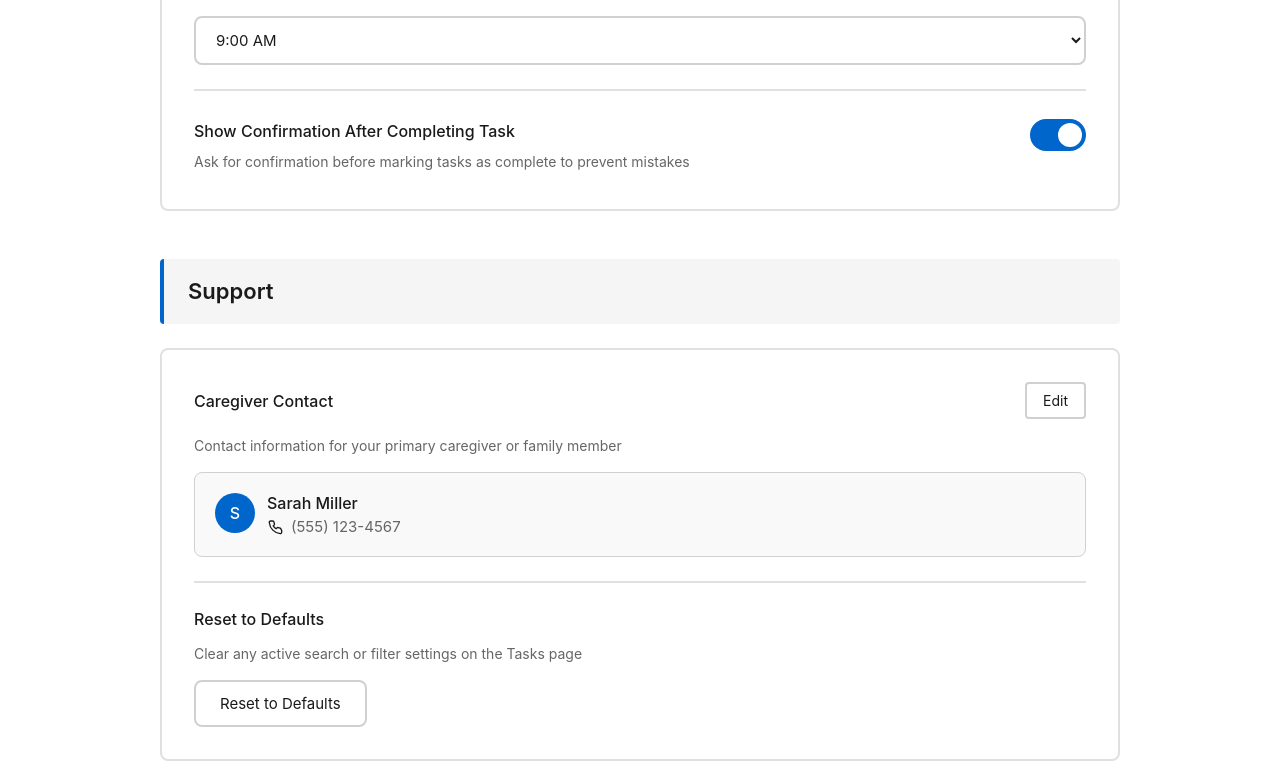
SettingsView › allows editing caregiver info and saving back to view mode
(page scrolled)
Click the button "Edit": (1056,401) x1=1025 y1=382 x2=1086 y2=419
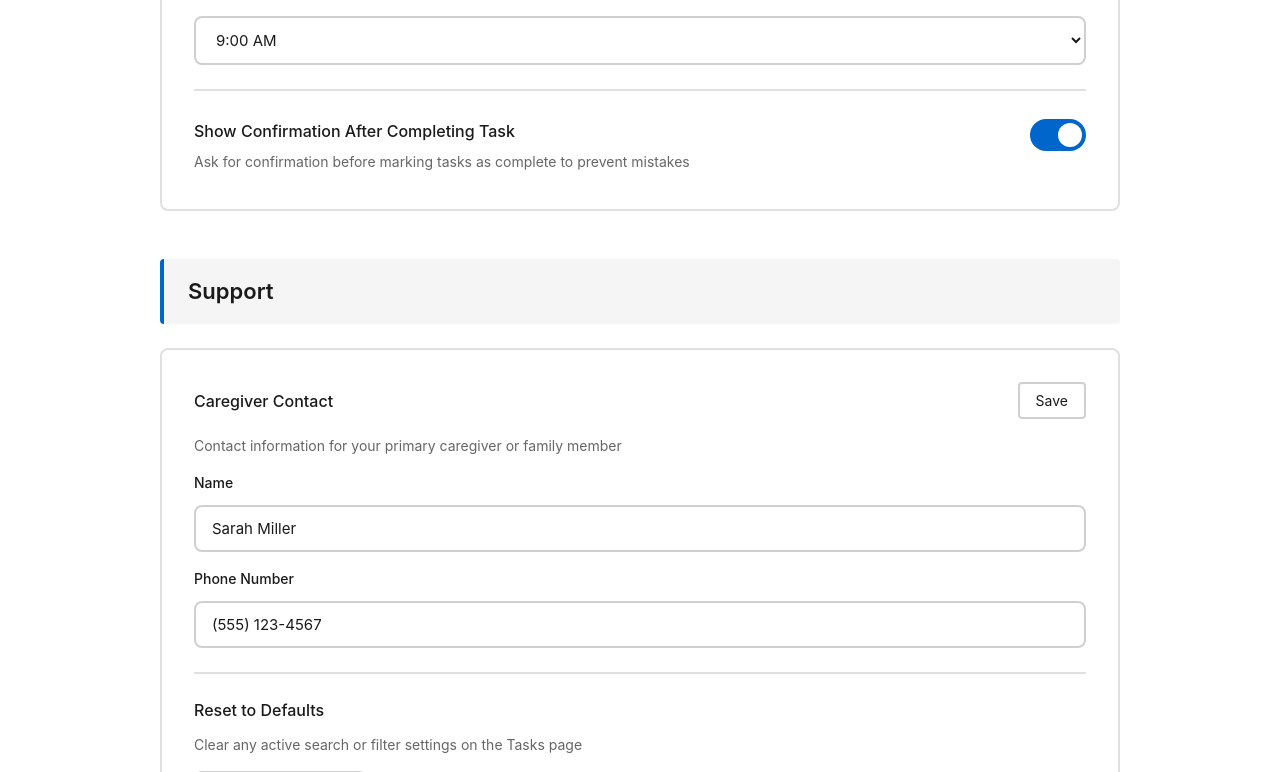
Replace the text in the field labelled "Name" with "Alex Carter": (640,529) x1=194 y1=505 x2=1086 y2=552
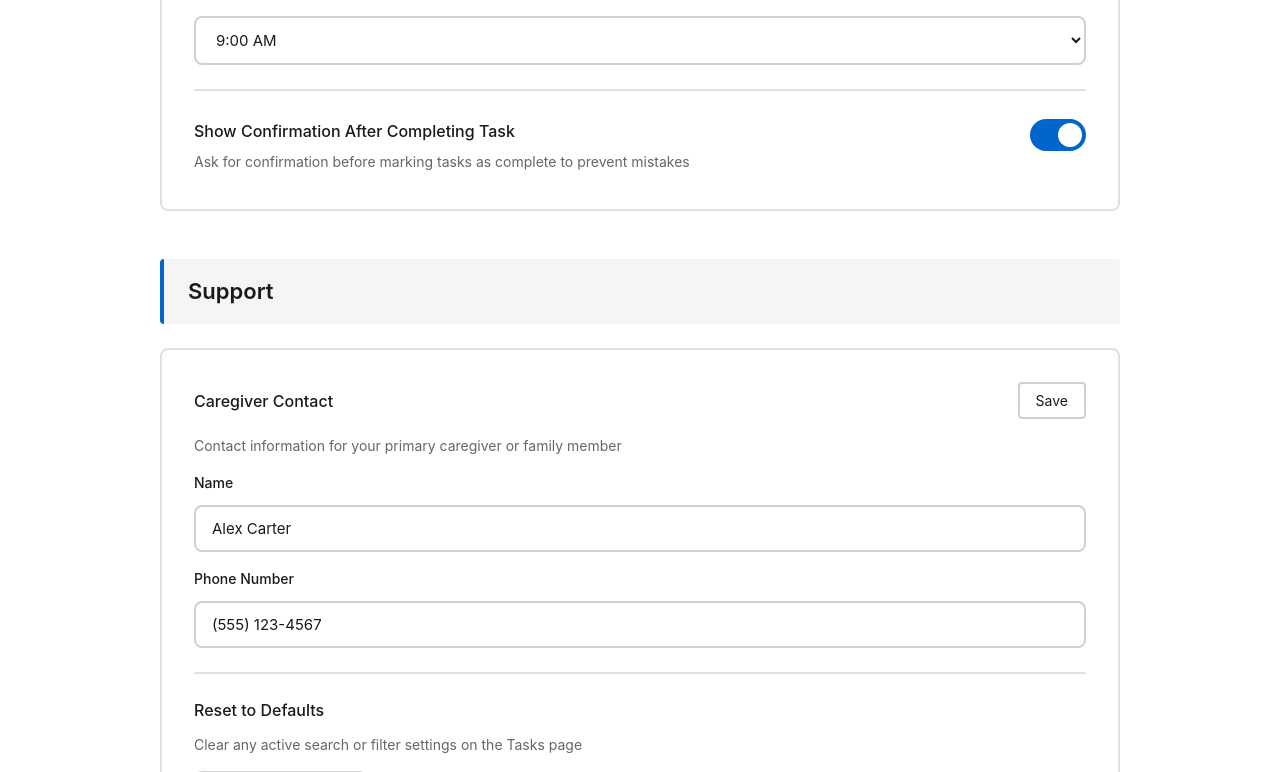
Replace the text in the field labelled "Phone Number" with "(555) 999-8888": (640,625) x1=194 y1=601 x2=1086 y2=648
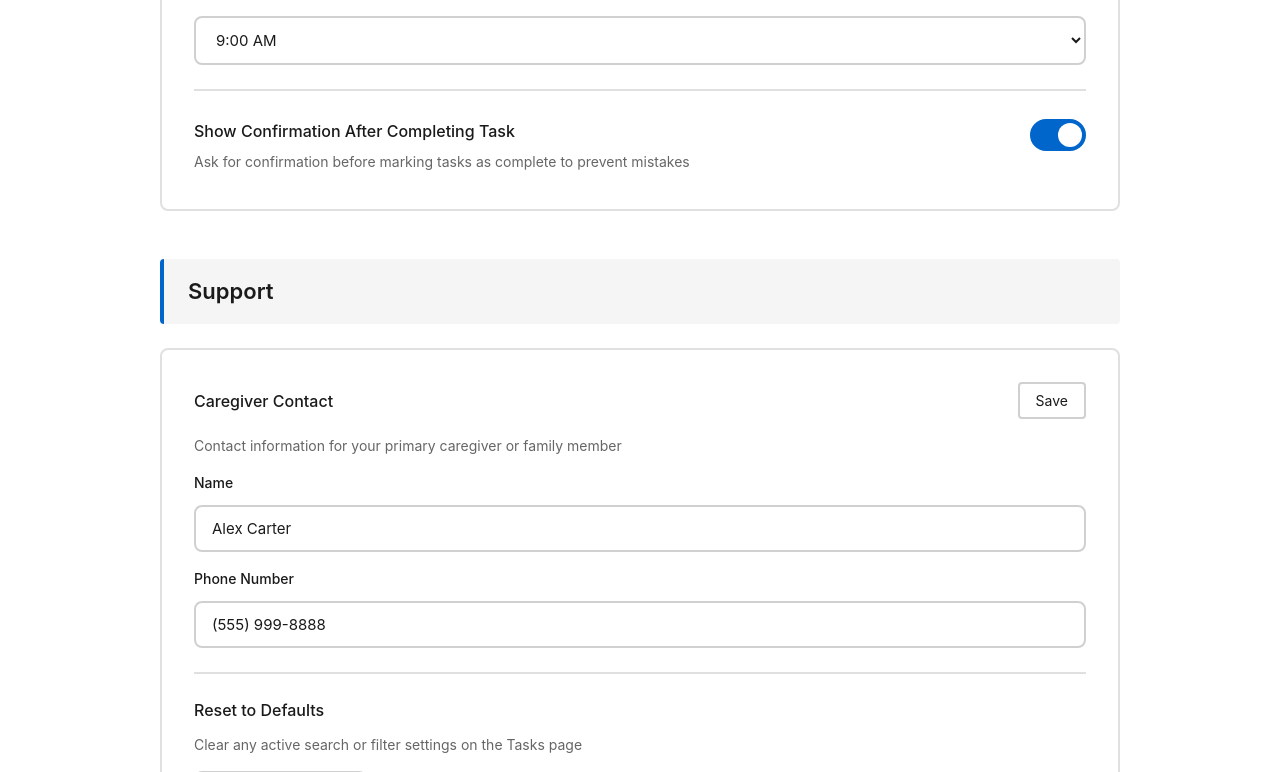
Click the button "Save": (1052,401) x1=1018 y1=382 x2=1086 y2=419
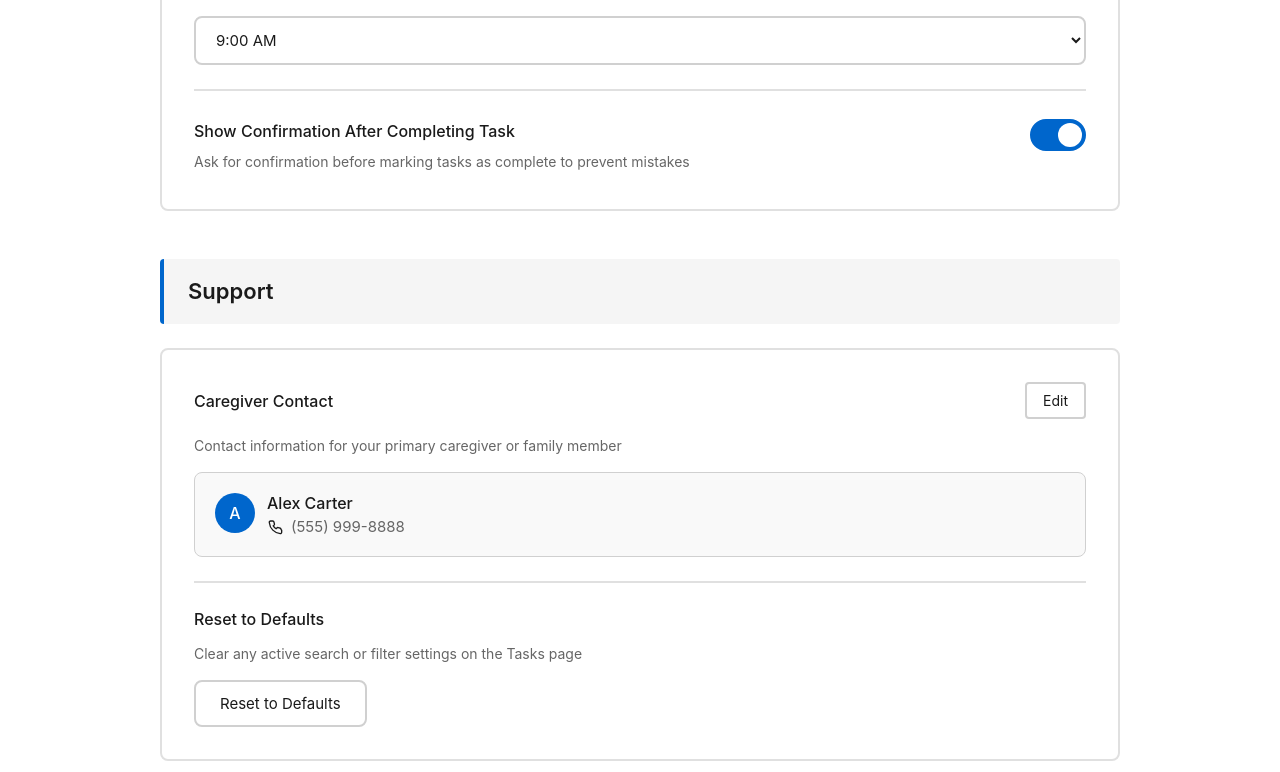
Expected: the text "Alex Carter" is shown, x1=267 y1=493 x2=353 y2=513
Expected: the text "(555) 999-8888" is shown, x1=291 y1=517 x2=405 y2=536
